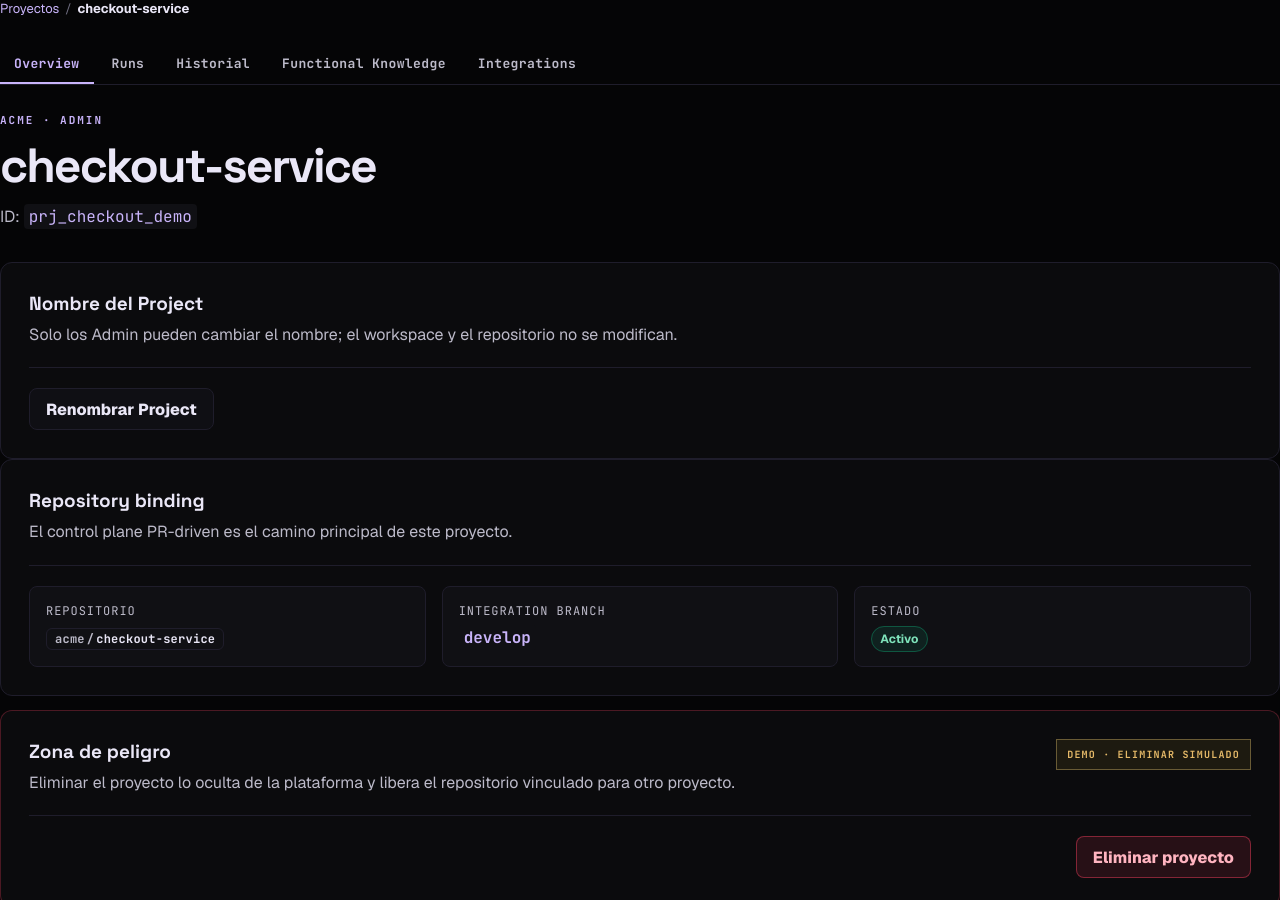
Scenario: HU56: Eliminar proyecto pide confirmación explícita, permite cancelar y está marcado como DEMO
Click the button "Eliminar proyecto". click: (1163, 857)
box: [1076, 836, 1251, 878]
(page scrolled)
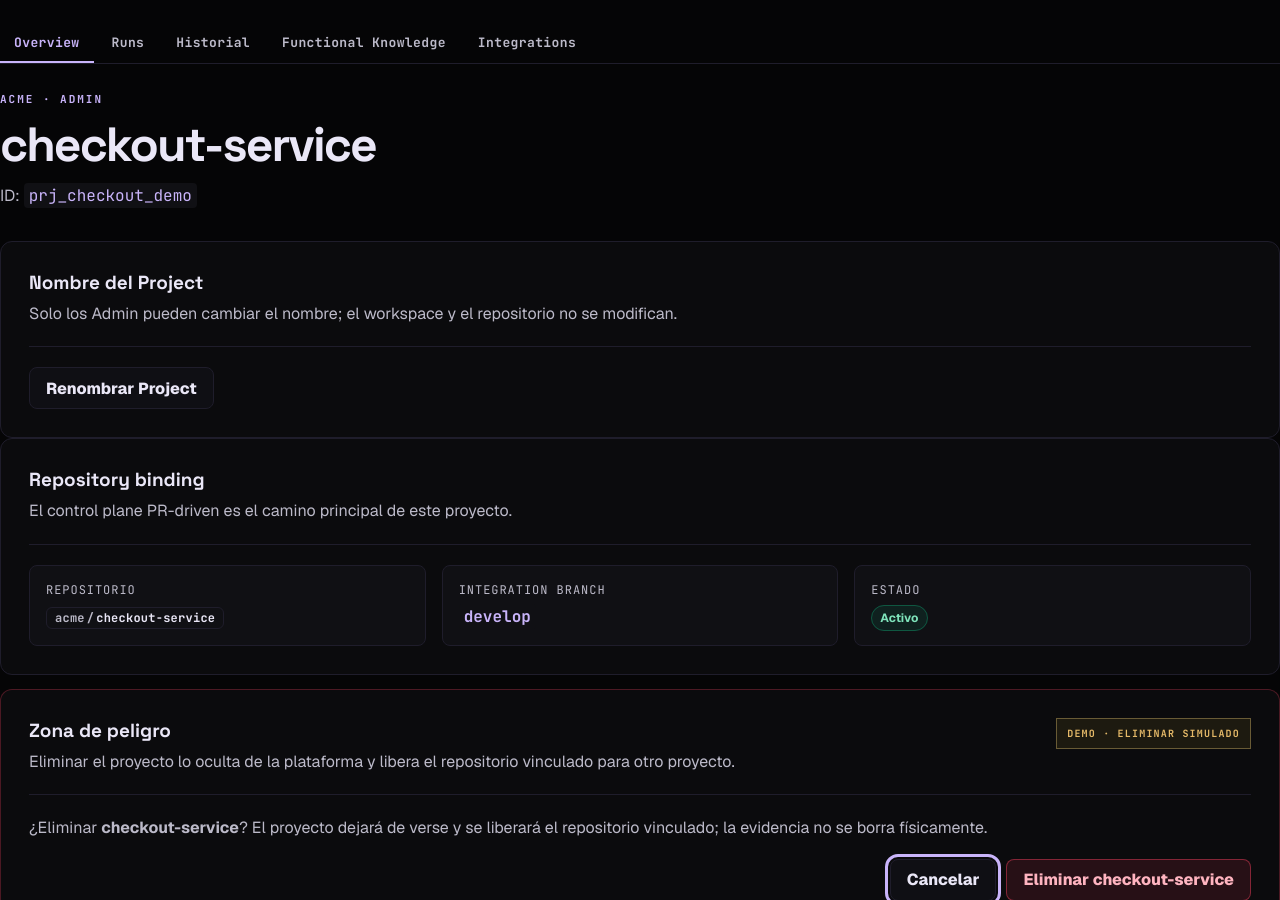
Check: the text "DEMO · ELIMINAR SIMULADO" is shown, box [1056, 718, 1251, 748]
Check: the text "checkout-service" next to "¿Eliminar" is shown, box [101, 817, 239, 838]
Check: the element named "Confirmar eliminación del proyecto" shows "El proyecto dejará de verse y se liberará el repositorio vinculado; la evidencia no se borra físicamente", box [239, 817, 987, 838]
Click the button "Cancelar". click: (943, 880)
box: [890, 859, 996, 899]
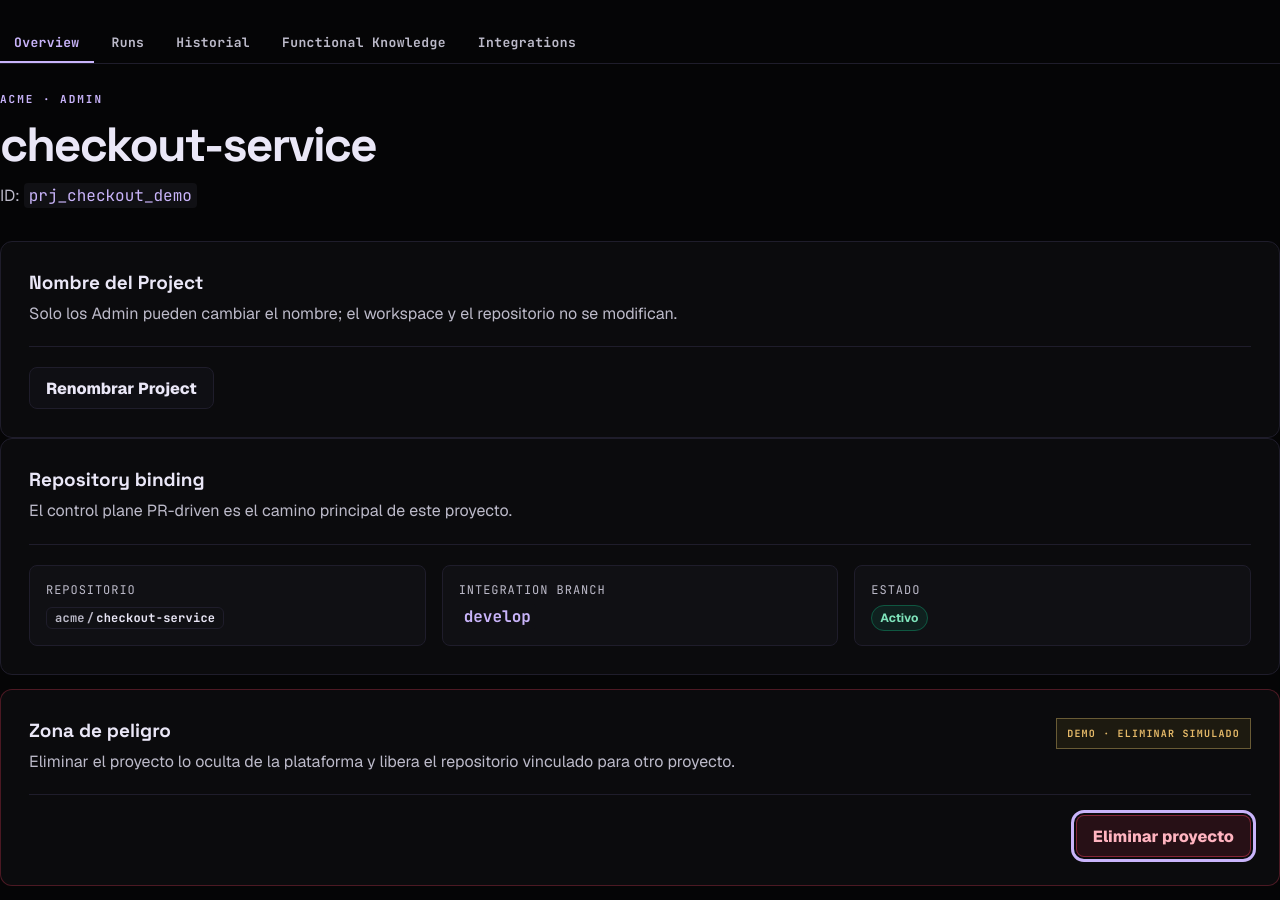
Check: the button "Eliminar proyecto" is shown, box [1076, 815, 1251, 857]
